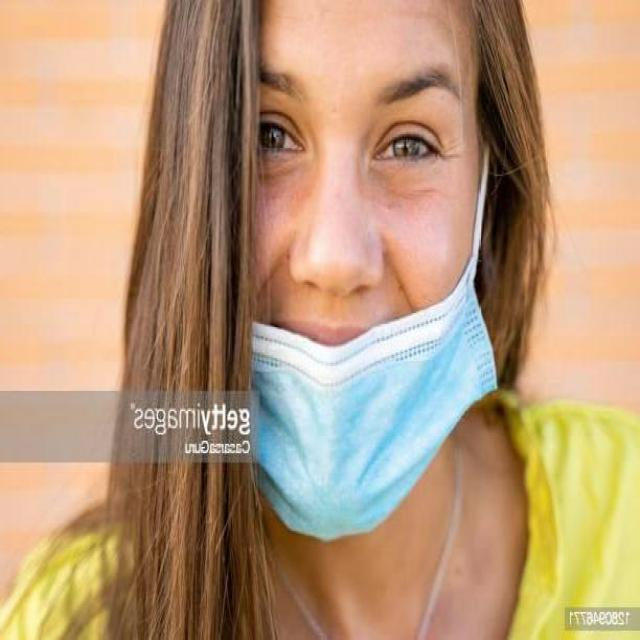hairnet: (160, 0, 516, 551)
